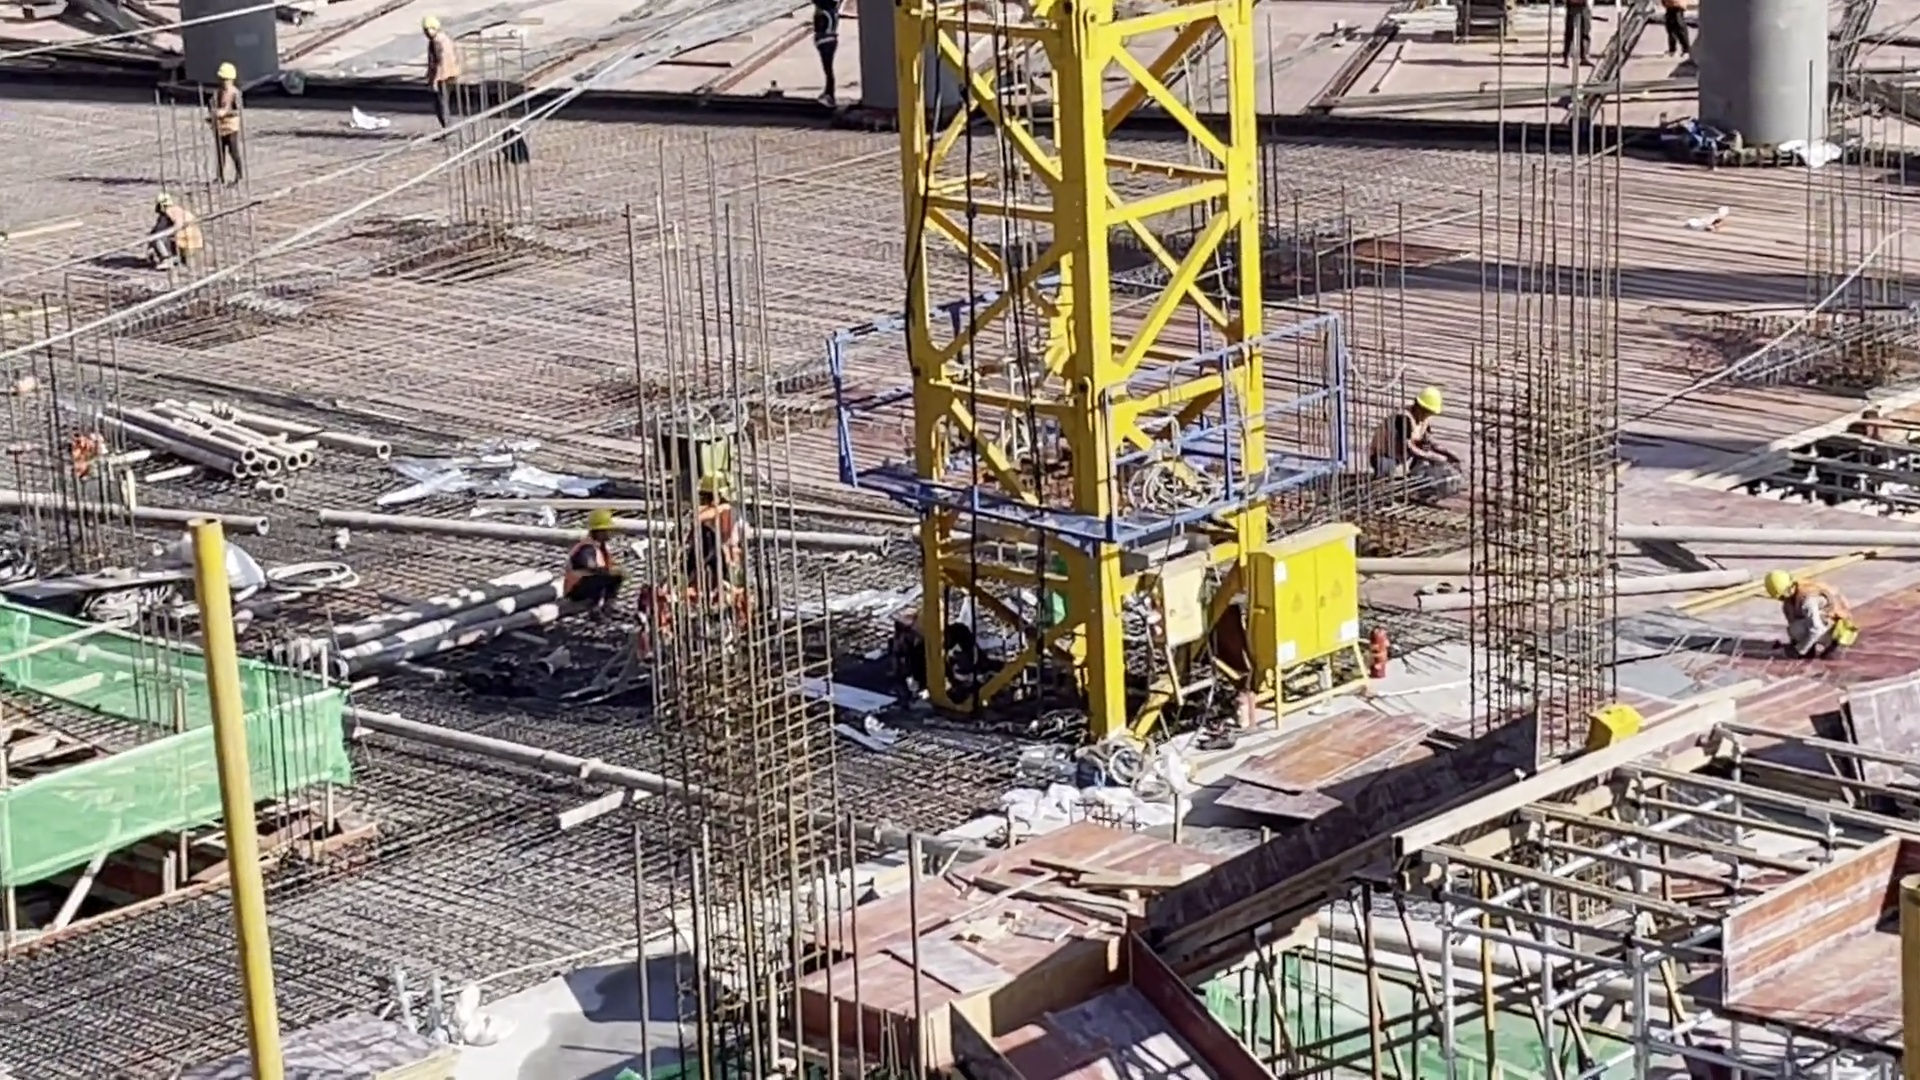helmet: (1416, 388, 1447, 421), (1763, 564, 1794, 595), (587, 509, 616, 536), (213, 62, 236, 86), (417, 20, 440, 40)
person: (1363, 387, 1464, 494), (1760, 566, 1861, 662), (559, 504, 639, 623), (416, 18, 467, 144), (207, 62, 249, 185), (147, 193, 206, 275), (808, 1, 844, 109), (1562, 1, 1594, 71), (1661, 1, 1693, 56)
vest: (1367, 413, 1431, 477), (1787, 580, 1850, 644), (564, 543, 625, 603), (425, 32, 458, 93), (208, 85, 242, 138)
